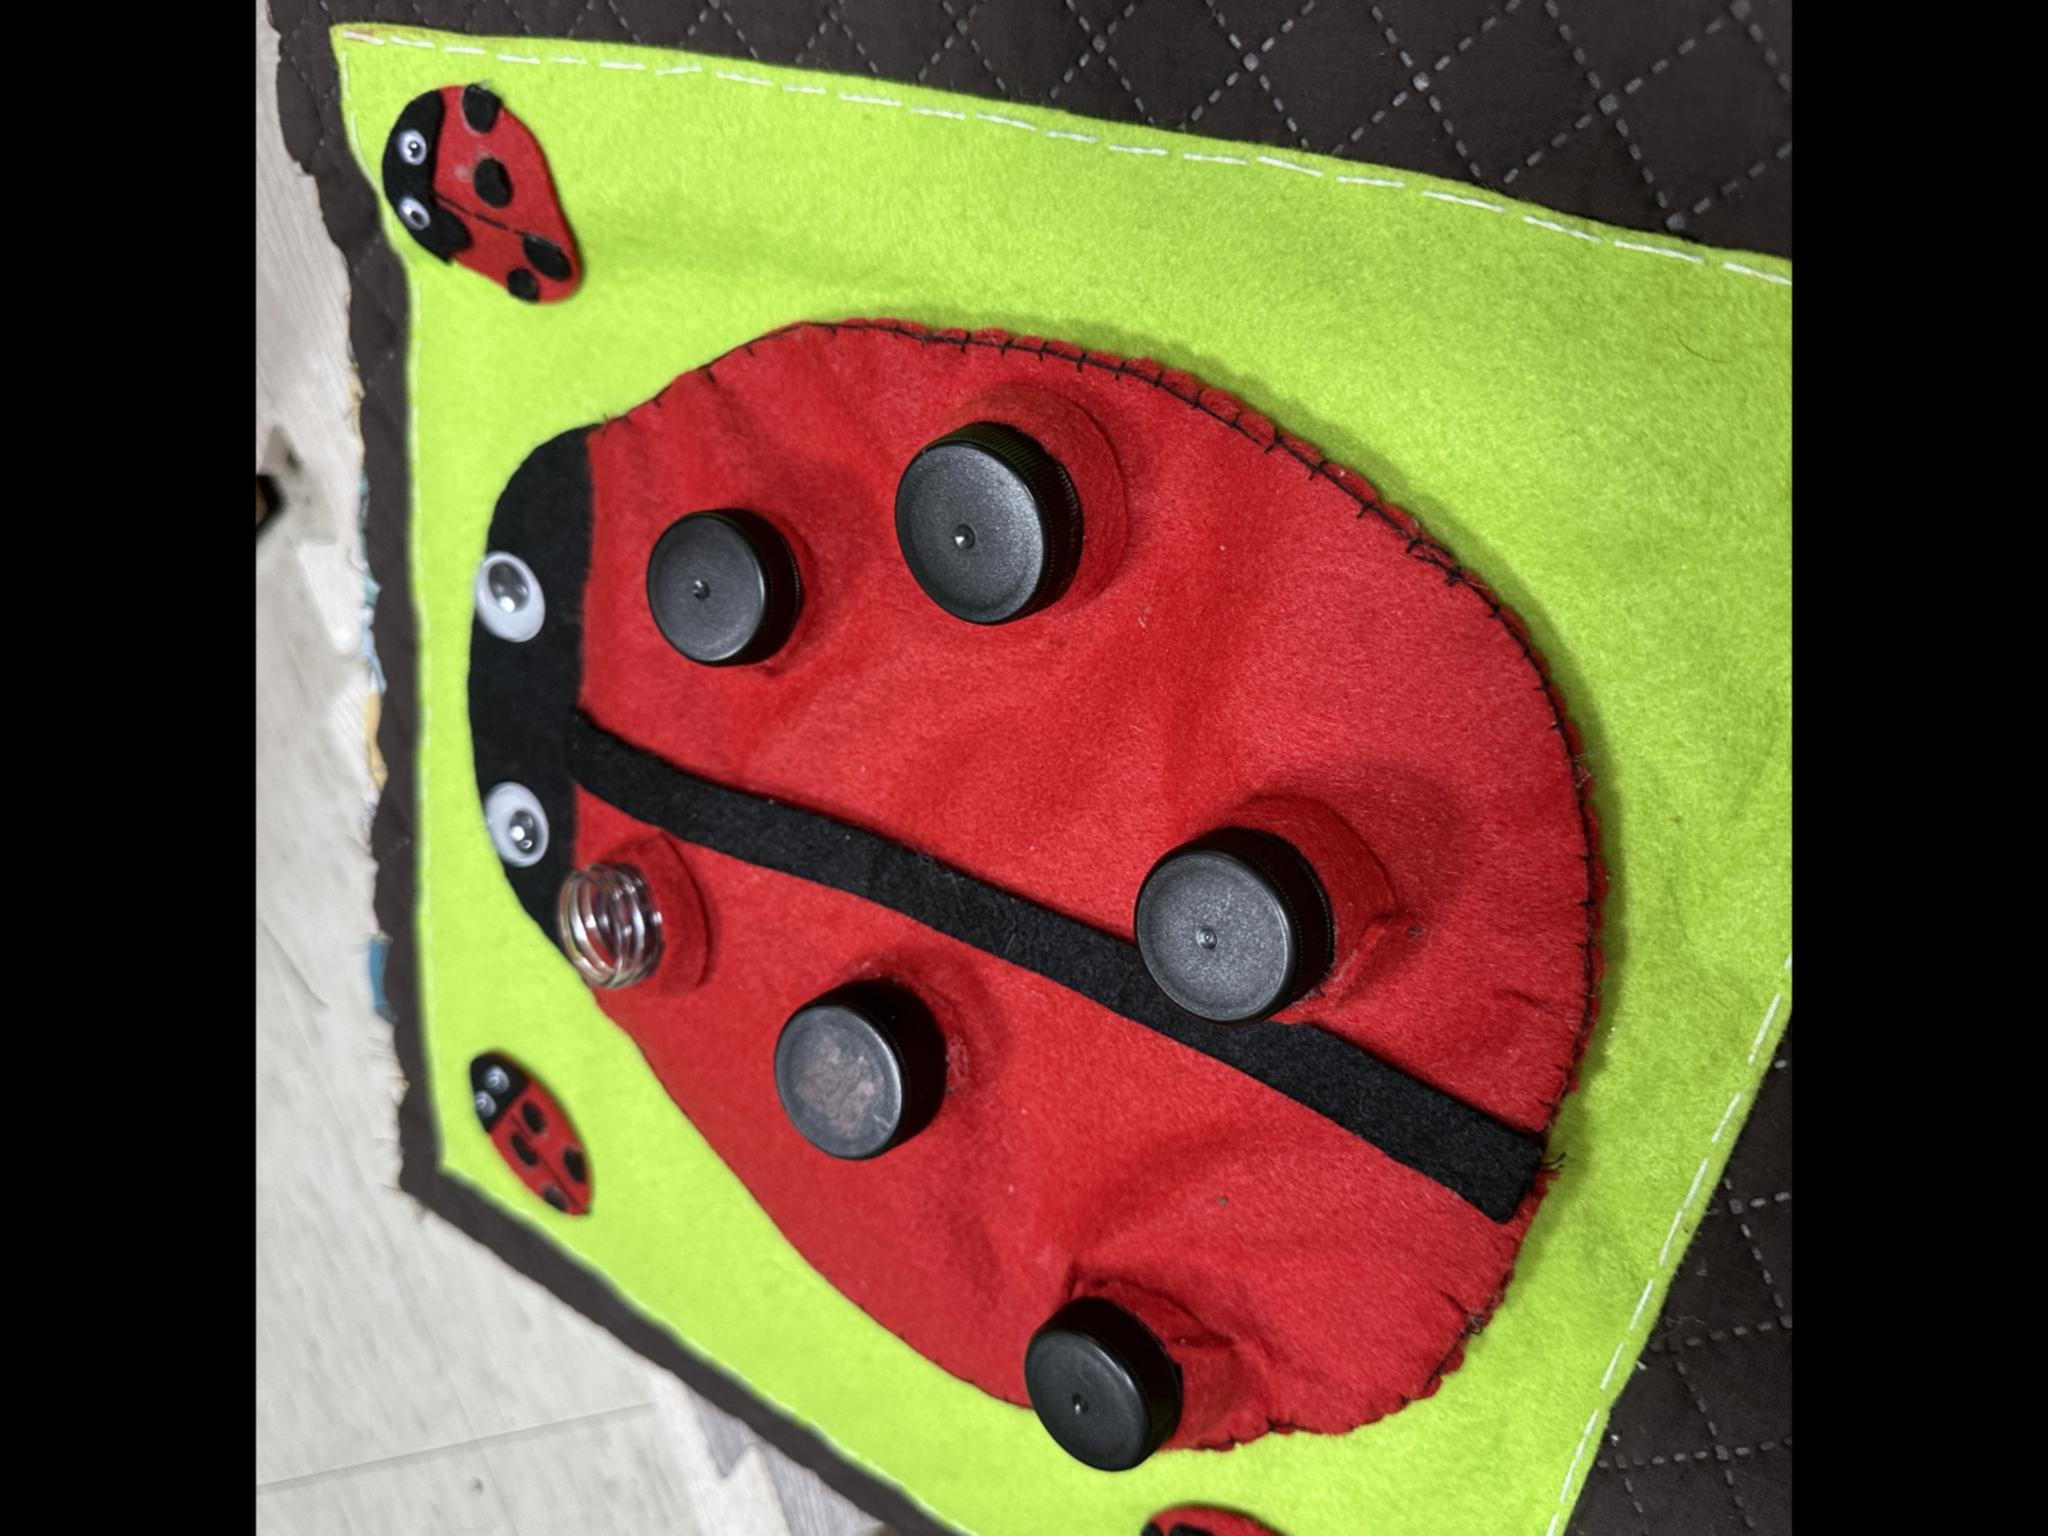cap_ok: (1114, 808, 1395, 1034), (887, 399, 1119, 655), (1003, 1255, 1238, 1499), (753, 957, 971, 1167), (637, 499, 824, 695)
